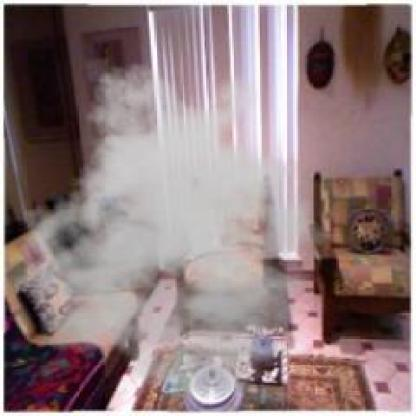Smoke: (2, 61, 352, 400)
